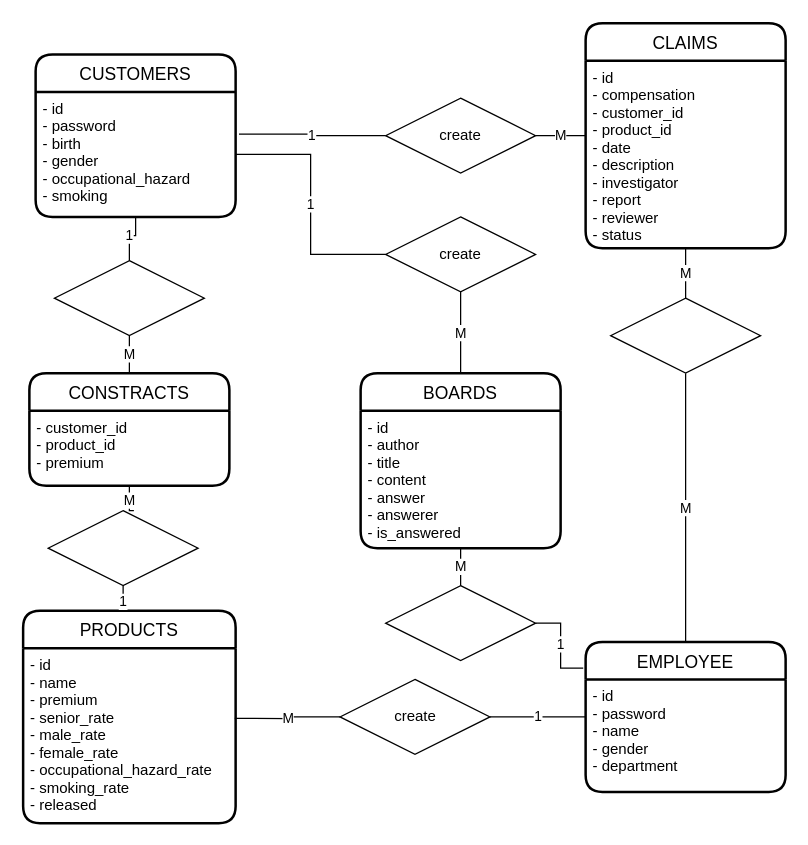
This 808x845 diagram has some shape labels left out. The centre of each missing label's shape, as x and y in pixels:
"answer" belongs at point (460, 622).
"include" belongs at point (122, 547).
"manage" belongs at point (685, 335).
"register" belongs at point (128, 297).
